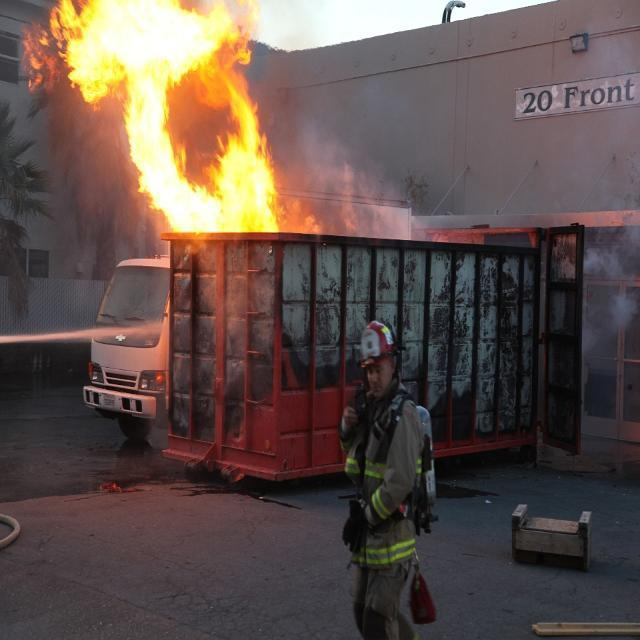Fire: (23, 0, 280, 233)
Smoke: (276, 129, 389, 234), (581, 250, 640, 376)
